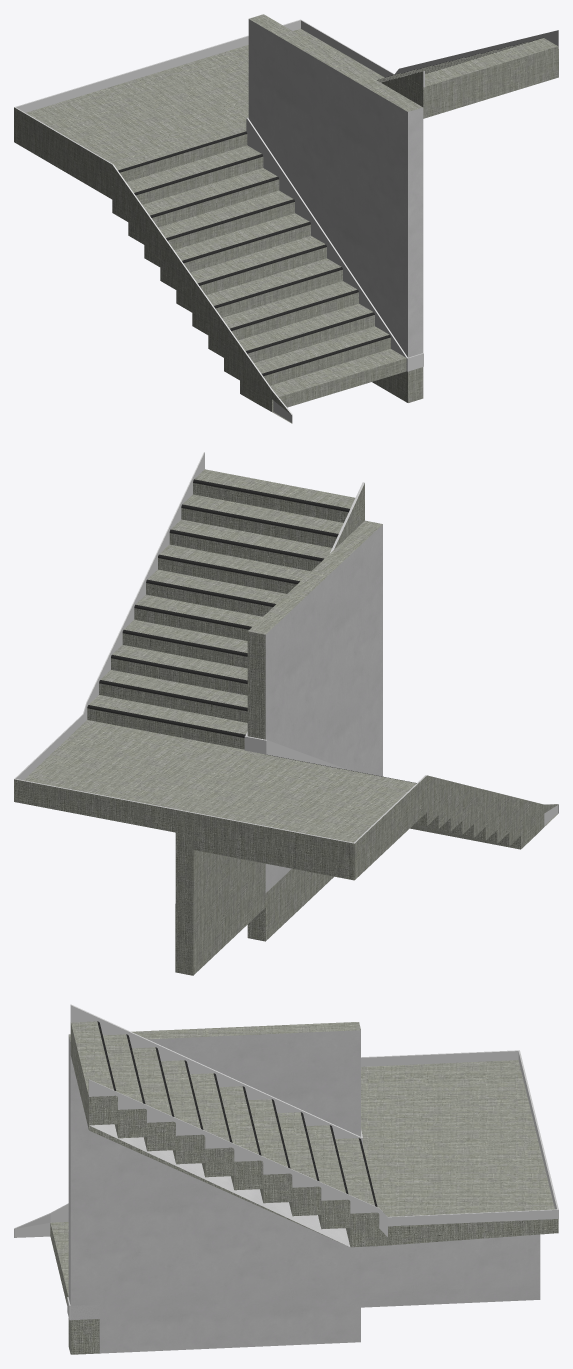
The model's file is stair.glb.
The picture shows the model from 3 angles, top to bottom: view 1: azimuth 30°, elevation 25°; view 2: azimuth 150°, elevation 25°; view 3: azimuth 270°, elevation 25°; orthographic projection. The views are drawn at different scales.
Parts seen in each view (by area): view 1: Cube_073; view 2: Cube_073; view 3: Cube_073.
Boxes of the visible parts, x1,y1,x2,y2 form: Cube_073: (14, 14, 558, 423); Cube_073: (14, 452, 558, 975); Cube_073: (14, 1004, 558, 1354).
Bounding box in the file's own units: 4.26 × 3.87 × 5.45.
Materials: 5 (3 with a texture image).
